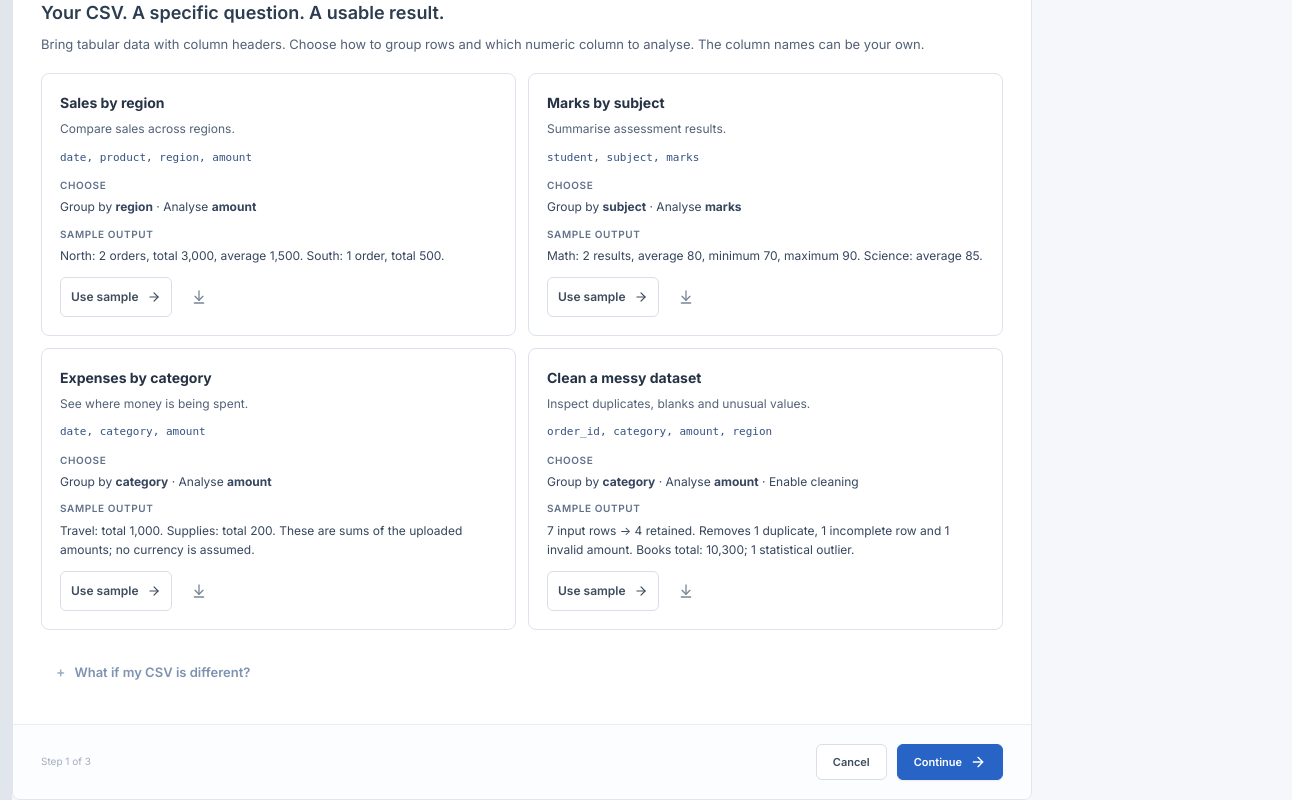
Test: new workload starts with a visible CSV upload and will not advance without input
This screenshot has width=1292, height=800.
(page scrolled)
Step 1. Click the button "Continue" → {"x": 950, "y": 762}, box top-left (897, 744), bottom-right (1003, 780)
(page scrolled)
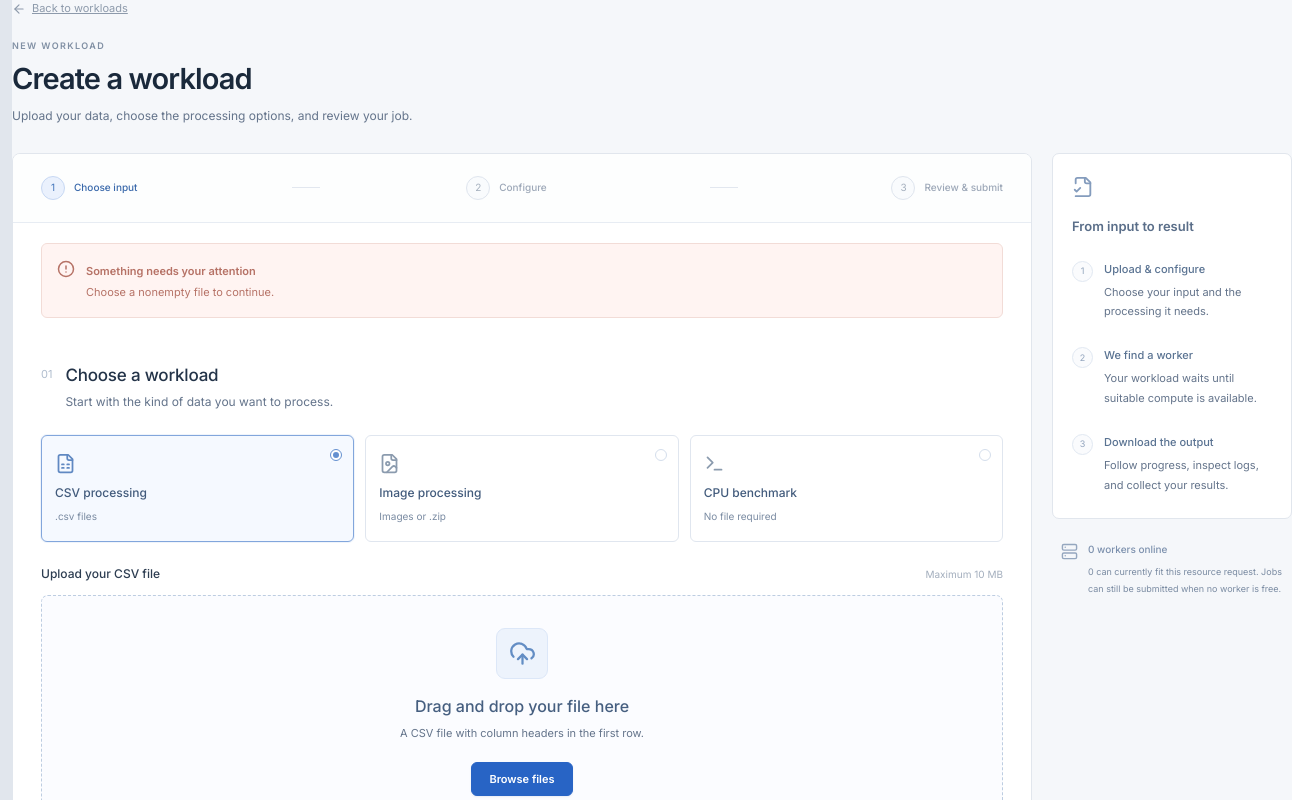
Check: the message shows "Choose a nonempty file", box top-left (86, 285), bottom-right (274, 299)
